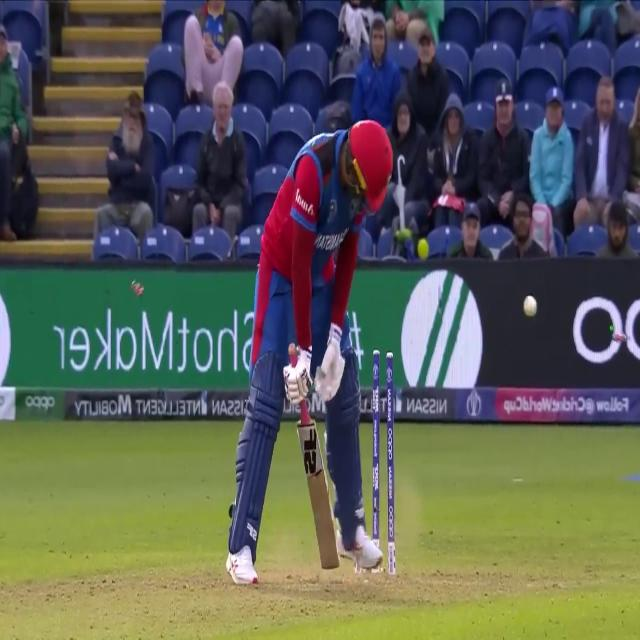ball: (524, 292, 538, 320)
